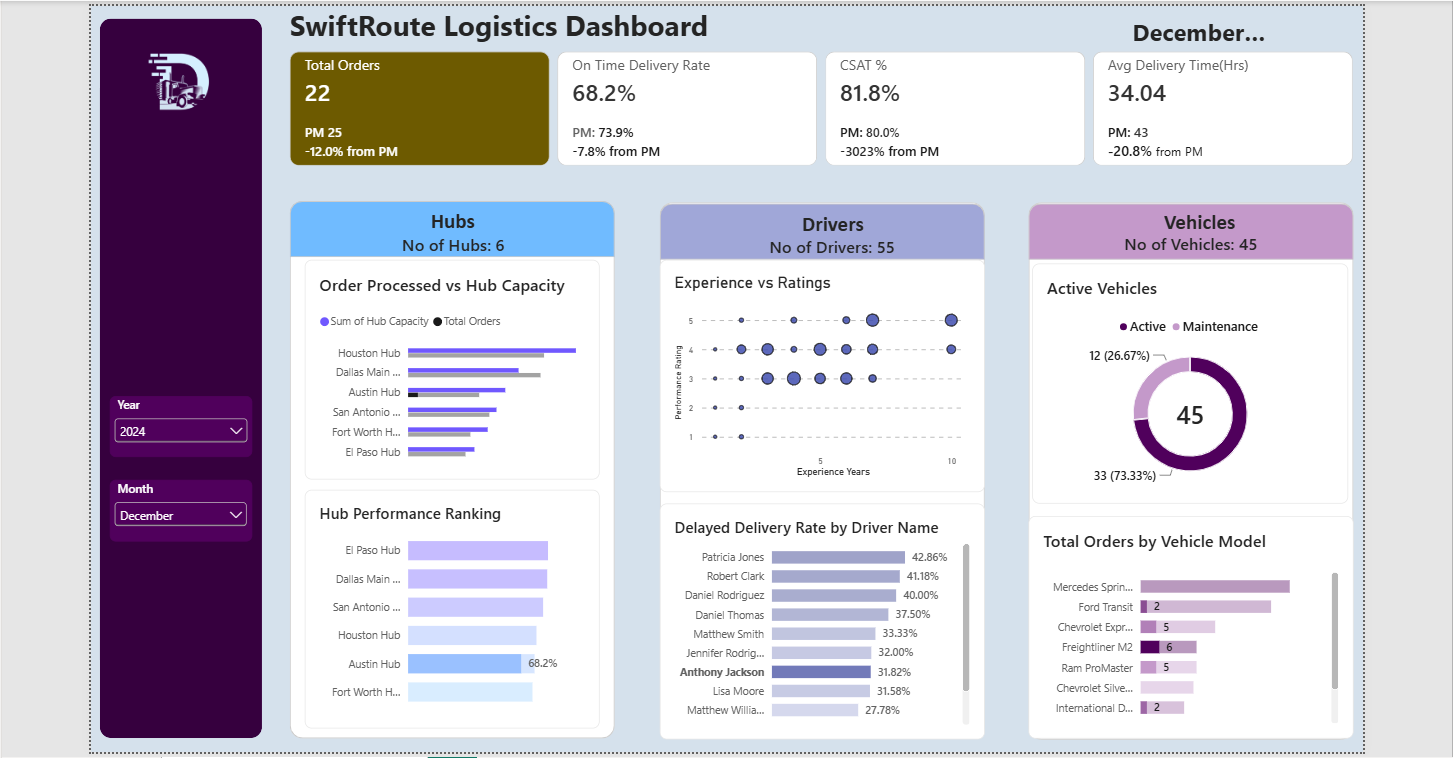

The dashboard page shown, as its layout file describes it:
{"tool":"powerbi","page":{"name":"SwiftRoute Logistics Dashboards","canvas":[1450,850],"ordinal":0},"visuals":[{"type":"shape","box":[10,14.2,185,820],"z":0},{"type":"textbox","box":[227.1,0,562.6,58.4],"z":1000},{"type":"cardVisual","fields":{"Data":["Orders.Total Orders","Orders.On Time Delivery Rate","Orders.CSAT %","Orders.Avg Delivery Time(Hrs)"]},"box":[226.5,47,1212.1,135.3],"z":2000},{"type":"slicer","fields":{"Values":["Date Table.Year"]},"box":[21.4,444.4,162.4,69.8],"z":3000},{"type":"slicer","fields":{"Values":["Date Table.Month"]},"box":[21.4,539.8,162,70],"z":4000},{"type":"shape","box":[226.5,222.2,370.3,612.4],"z":5000},{"type":"shape","box":[226.5,222.2,370.3,64.1],"z":6000},{"type":"textbox","box":[262.1,229.3,300.5,59.8],"z":7000},{"type":"cardVisual","fields":{"Data":["Hubs.No of Hubs"]},"box":[659.4,514.2,185.7,52.9],"z":8000},{"type":"clusteredBarChart","title":"Order Processed vs Hub Capacity","fields":{"Category":["Hubs.HubName"],"Y":["Sum(Hubs.Hub Capacity)","Orders.Total Orders"]},"box":[243.6,289.1,336.1,250.7],"z":9000},{"type":"barChart","title":"Hub Performance Ranking","fields":{"Category":["Hubs.HubName"],"Y":["Orders.On Time Delivery Rate"]},"box":[243.6,551.2,336.1,272],"z":10000},{"type":"shape","box":[648,223.6,370.3,611],"z":10500},{"type":"shape","box":[648,225,370.3,64.1],"z":11000},{"type":"shape","box":[1068.2,223.6,370.3,612.4],"z":13750},{"type":"shape","box":[1068.2,225,370.3,64.1],"z":14000},{"type":"textbox","box":[694.7,233.3,300.5,59.8],"z":15000},{"type":"cardVisual","fields":{"Data":["Hubs.No of Hubs"]},"box":[320.5,254.9,185.2,31.3],"z":16000},{"type":"cardVisual","fields":{"Data":["Drivers.No of Drivers"]},"box":[752,257.8,185.2,32.8],"z":16001},{"type":"scatterChart","title":"Experience vs Ratings","fields":{"Size":["Sum(Drivers.Experience Years)"],"X":["Drivers.Experience Years"],"Y":["Drivers.Performance Rating"]},"box":[648,289.1,370.3,264.9],"z":16002},{"type":"barChart","fields":{"Category":["Orders.Driver Name"],"Y":["Orders.Delayed Delivery Rate"]},"box":[648,566.9,370.3,269.2],"z":16003},{"type":"textbox","box":[1136,230.7,253.3,56],"z":16004},{"type":"cardVisual","fields":{"Data":["Vehicles.No of Vehicles"]},"box":[1161.3,253.3,185.2,32.8],"z":16005},{"type":"donutChart","title":"Active Vehicles","fields":{"Category":["Vehicles.Vehicle Status"],"Y":["CountNonNull(Vehicles.Vehicle ID)"]},"box":[1072.5,293.4,360.3,273.5],"z":16006},{"type":"barChart","fields":{"Category":["Vehicles.Vehicle Model"],"Y":["Orders.Total Orders"]},"box":[1068.2,581.1,370.3,253.5],"z":16007},{"type":"image","box":[35.6,47,131,84],"z":16008},{"type":"cardVisual","fields":{"Data":["Orders.Year Month Title"]},"box":[1170.8,12.8,185.2,32.8],"z":16009}]}

Visuals, with their boxes on the page's 1450x850 design canvas (x1, y1, x2, y2). These are canvas units, not pixel positions in the 1453x758 screenshot, which may show the page scaled, cropped or inside an application window:
shape: 10/14/195/834
textbox: 227/0/790/58
cardVisual - Orders.Total Orders x Orders.On Time Delivery Rate: 226/47/1439/182
slicer - Date Table.Year: 21/444/184/514
slicer - Date Table.Month: 21/540/183/610
shape: 226/222/597/835
shape: 226/222/597/286
textbox: 262/229/563/289
cardVisual - Hubs.No of Hubs: 659/514/845/567
"Order Processed vs Hub Capacity" clusteredBarChart: 244/289/580/540
"Hub Performance Ranking" barChart: 244/551/580/823
shape: 648/224/1018/835
shape: 648/225/1018/289
shape: 1068/224/1438/836
shape: 1068/225/1438/289
textbox: 695/233/995/293
cardVisual - Hubs.No of Hubs: 320/255/506/286
cardVisual - Drivers.No of Drivers: 752/258/937/291
"Experience vs Ratings" scatterChart: 648/289/1018/554
barChart - Orders.Driver Name x Orders.Delayed Delivery Rate: 648/567/1018/836
textbox: 1136/231/1389/287
cardVisual - Vehicles.No of Vehicles: 1161/253/1346/286
"Active Vehicles" donutChart: 1072/293/1433/567
barChart - Vehicles.Vehicle Model x Orders.Total Orders: 1068/581/1438/835
image: 36/47/167/131
cardVisual - Orders.Year Month Title: 1171/13/1356/46
